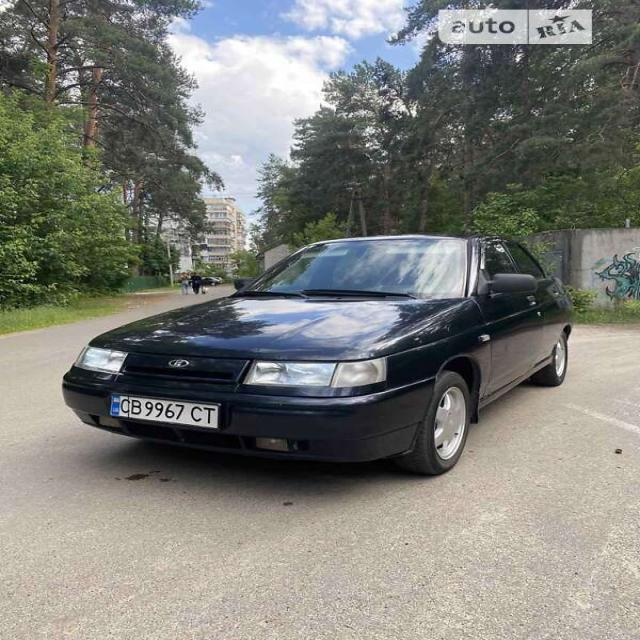plate: (103, 382, 234, 434)
